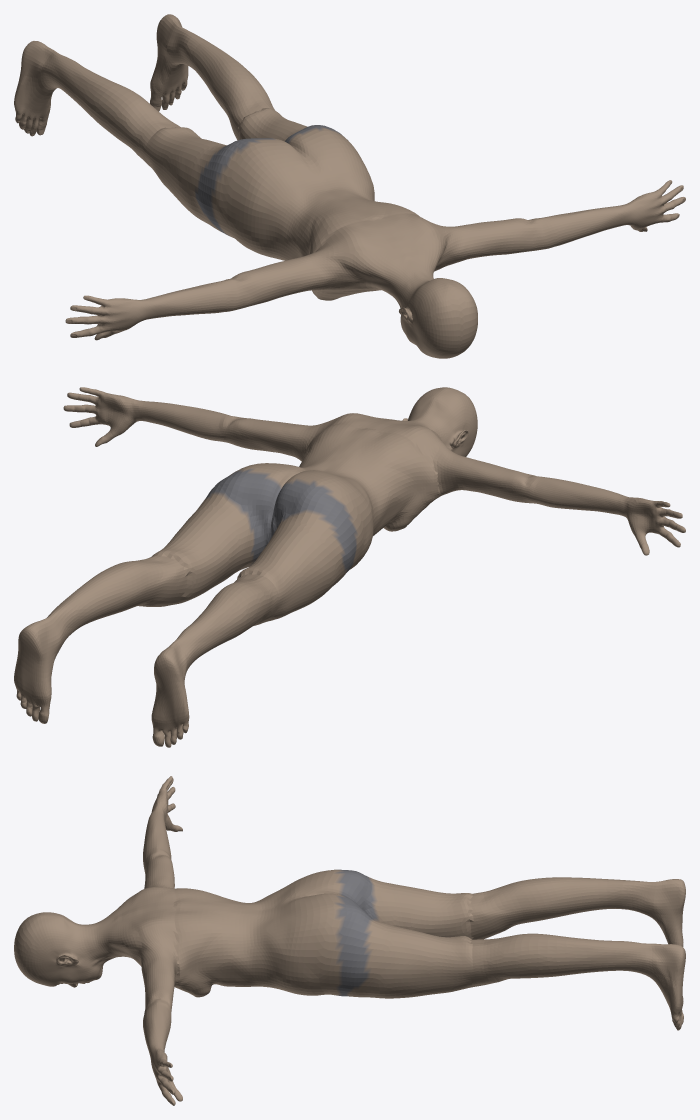
3 renders of one model, top to bottom at view 1: azimuth 30°, elevation 25°; view 2: azimuth 150°, elevation 25°; view 3: azimuth 270°, elevation 25°, orthographic. The views are drawn at different scales.
Parts seen in each view (by area): view 1: geometry_0; view 2: geometry_0; view 3: geometry_0.
Part boxes in pixels (box(x1,y1,x2,y2)): geometry_0: box(14, 14, 685, 358); geometry_0: box(14, 387, 685, 747); geometry_0: box(14, 776, 685, 1105).
Bounding box in the file's own units: 1.62 × 0.3153 × 1.66.
